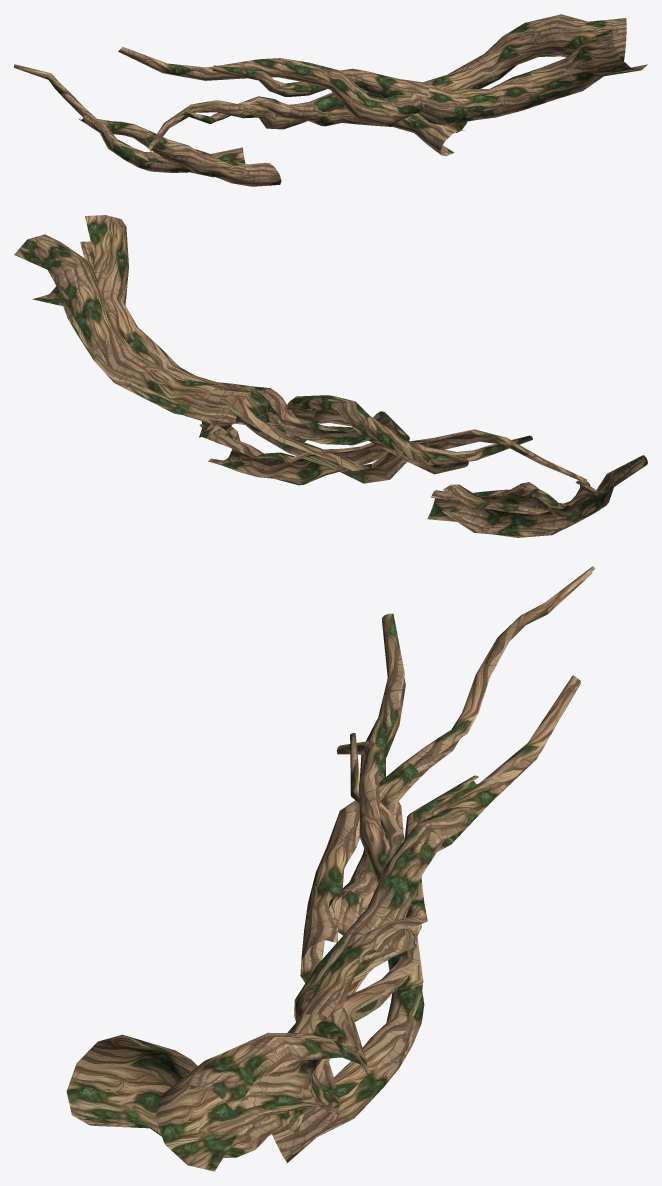
File: SM_Stage011_Tree03.FBX
3 renders of one model, top to bottom at view 1: azimuth 30°, elevation 25°; view 2: azimuth 150°, elevation 25°; view 3: azimuth 270°, elevation 25°, orthographic. The views are drawn at different scales.
Parts seen in each view (by area): view 1: Object02; view 2: Object02; view 3: Object02.
Boxes of the visible parts, <box> form: Object02: <box>14,14,647,186</box>; Object02: <box>14,215,647,537</box>; Object02: <box>66,566,594,1171</box>.
Bounding box in the file's own units: 9787 × 4297 × 2186.
Materials: 1 (1 with a texture image).
